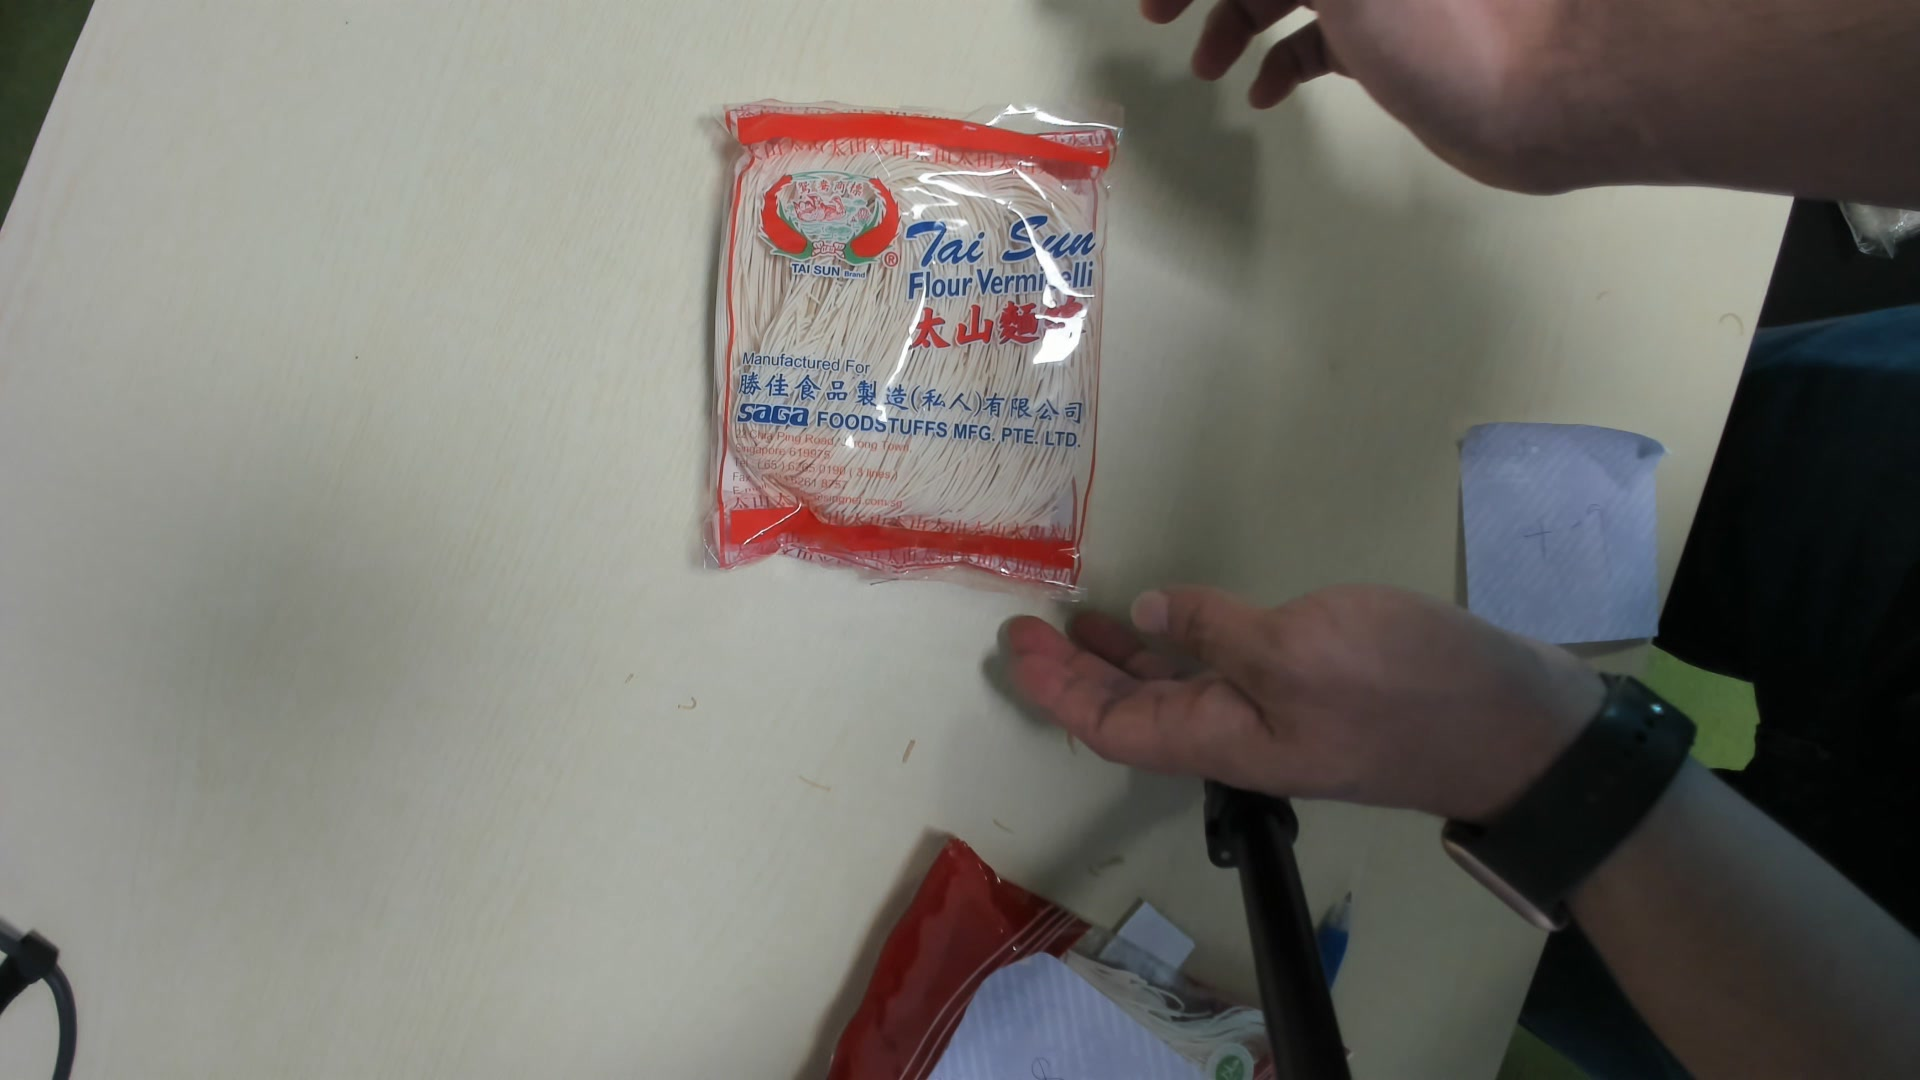BeeHoonVermicelli_100-199g_Halal_NonHealthy: (705, 102, 1098, 601)
